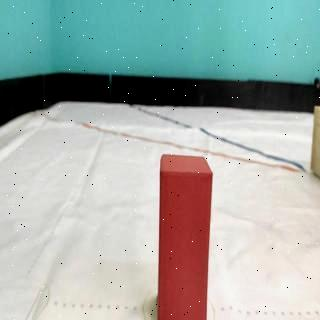redbox: (158, 155, 209, 320)
